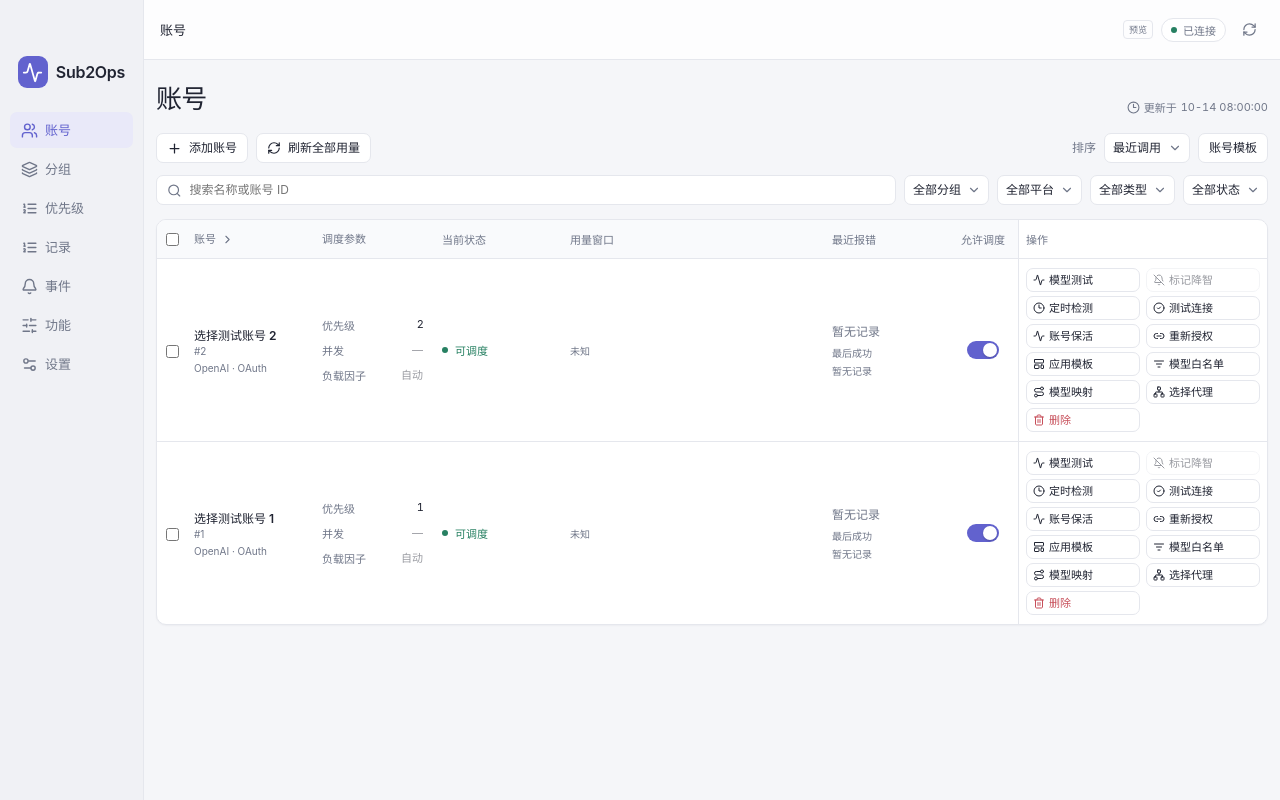
main account selection surface › closes batch results and restores focus to the test button without a separate entry
Click the checkbox named "选择 选择测试账号 1": (172, 534) [166,528,178,541]
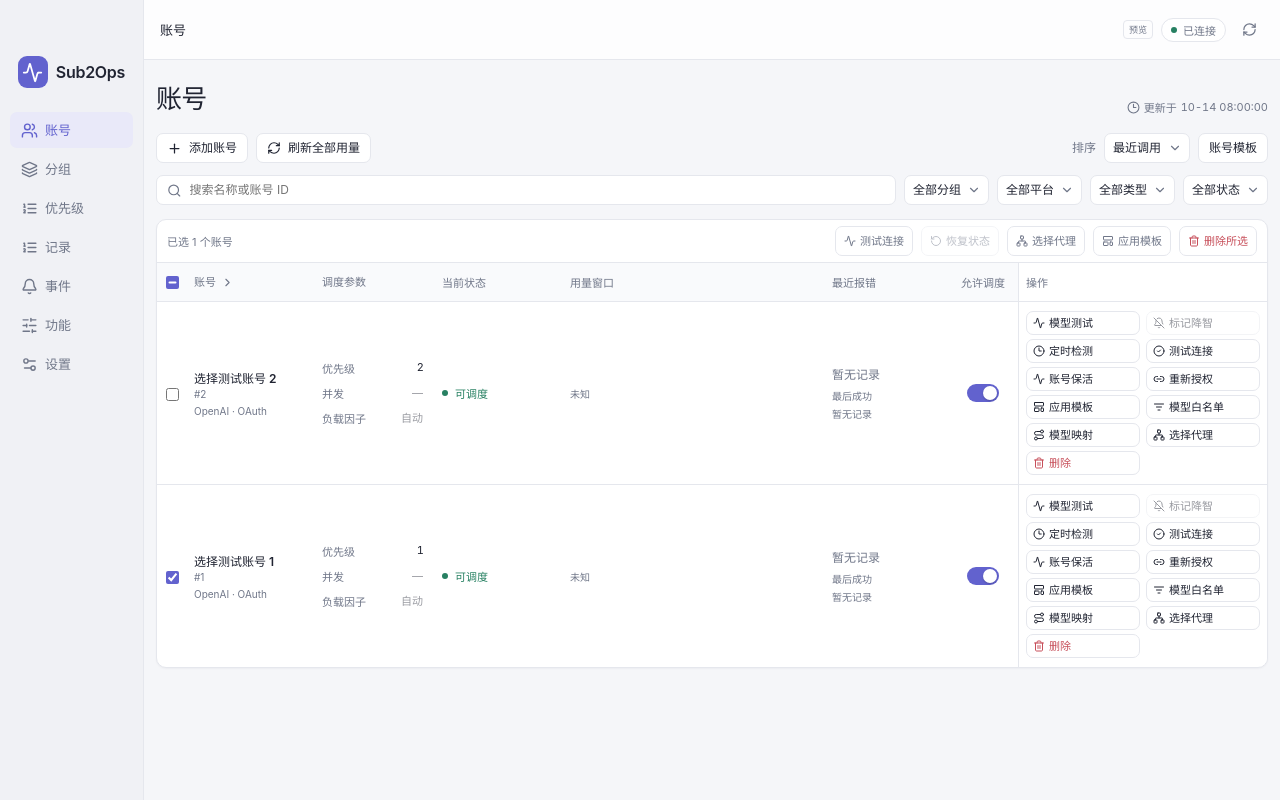
expect the element with class "selection-bar" shows "已选 1 个账号": met, box [157,220,1267,263]
Click the button "测试连接" in the row of "个账号": (874, 241) [835,226,913,256]
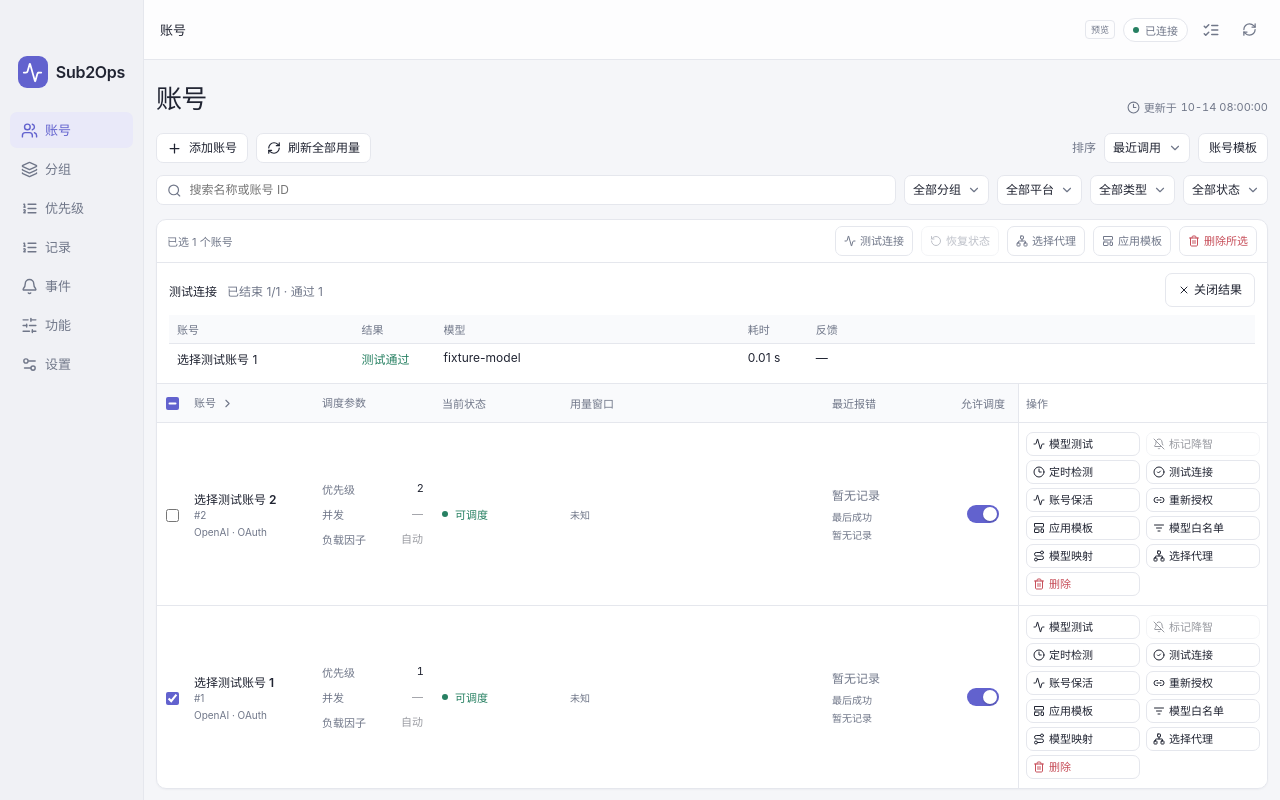
expect the element named "批量测试连接" shows "通过": met, box [227,284,323,298]
Click the button "关闭结果": (1210, 290) [1165,273,1255,307]
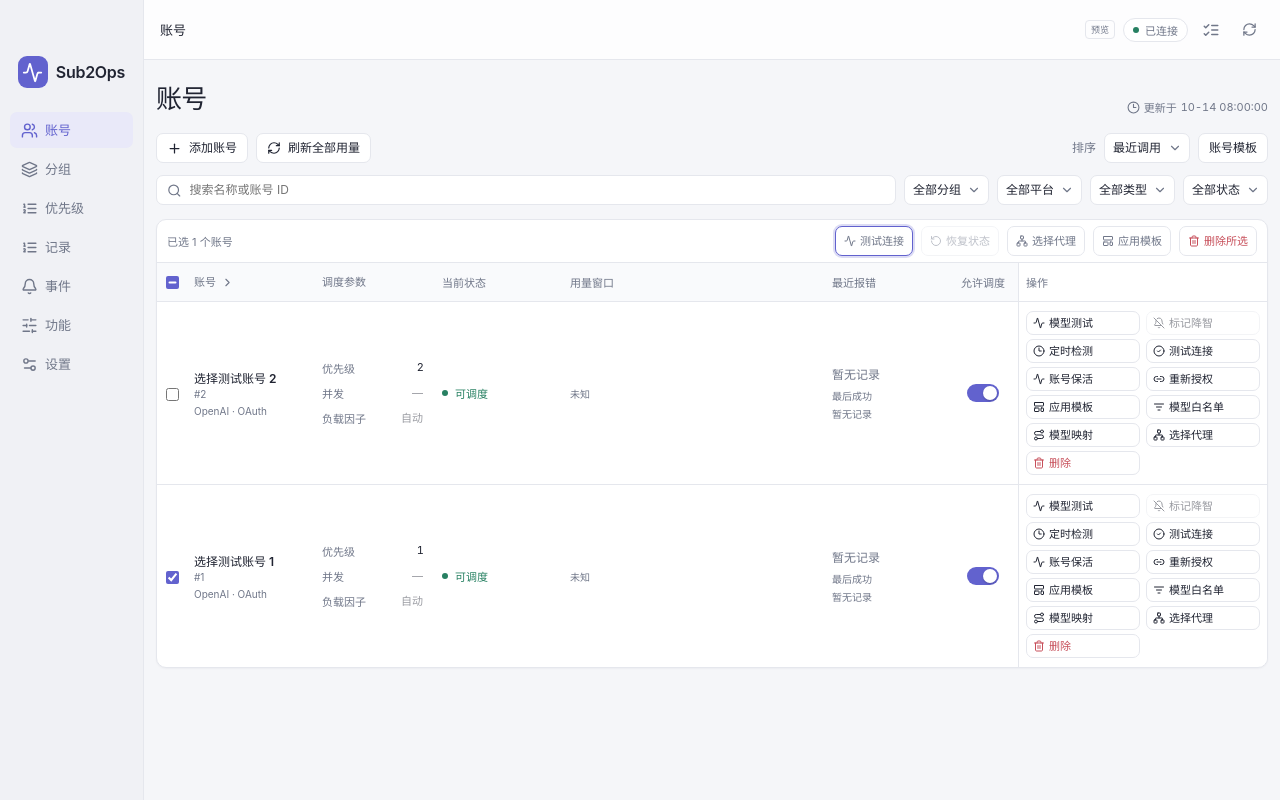
expect the element named "批量测试连接" is gone: met
Click the checkbox named "选择 选择测试账号 1": (172, 577) [166,571,178,584]
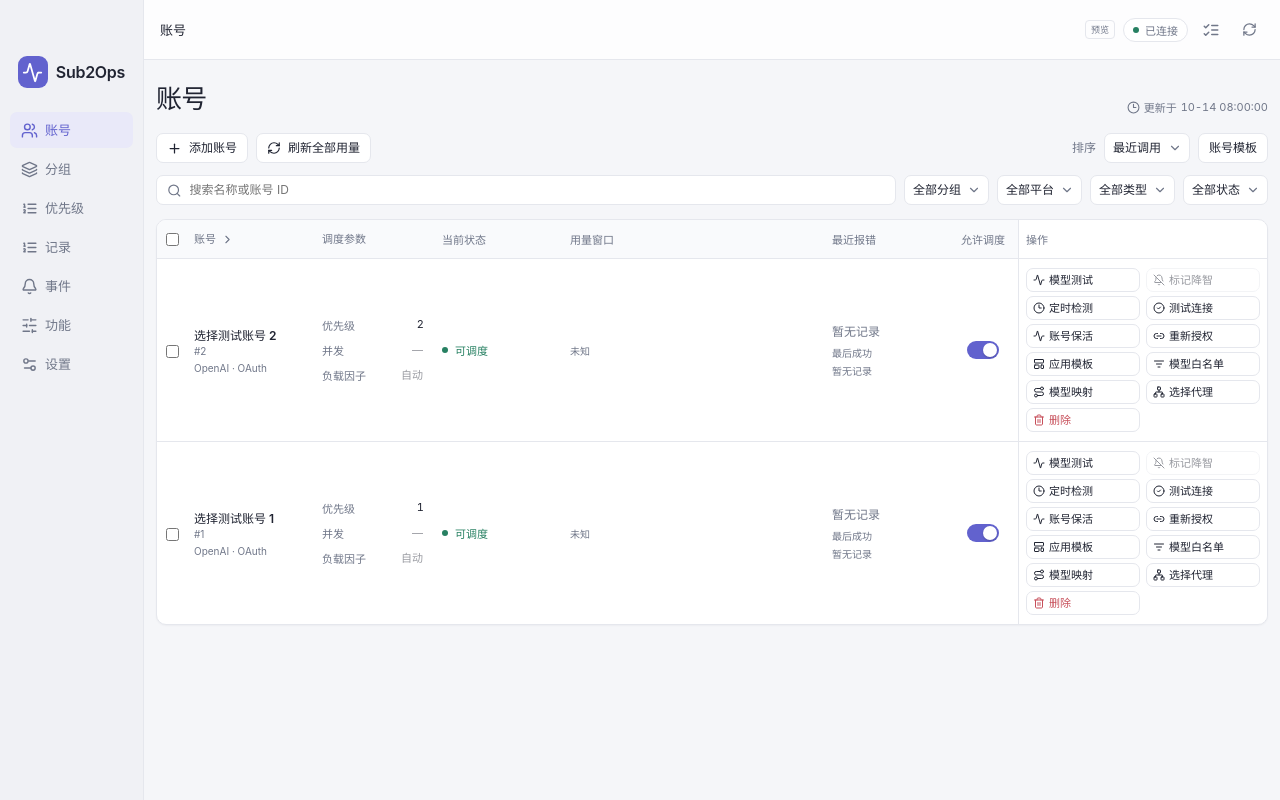
expect the element with class "selection-bar" is gone: met
